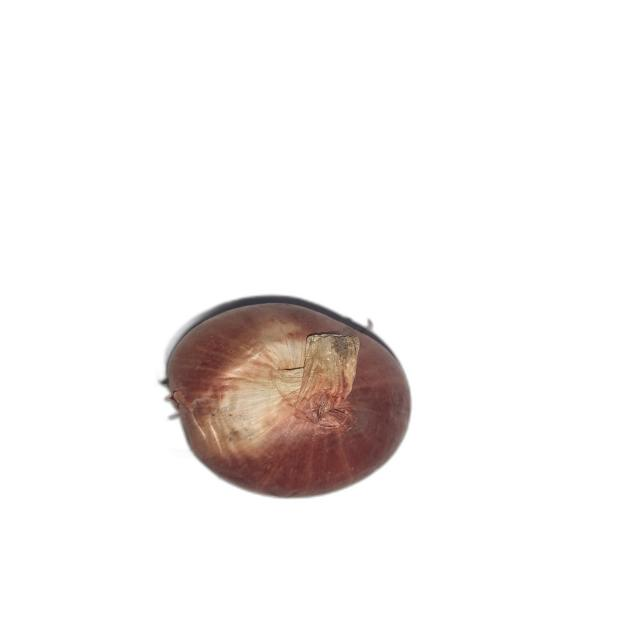onion: (165, 303, 412, 499)
